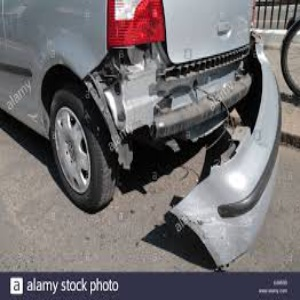bumper: (151, 68, 281, 269)
